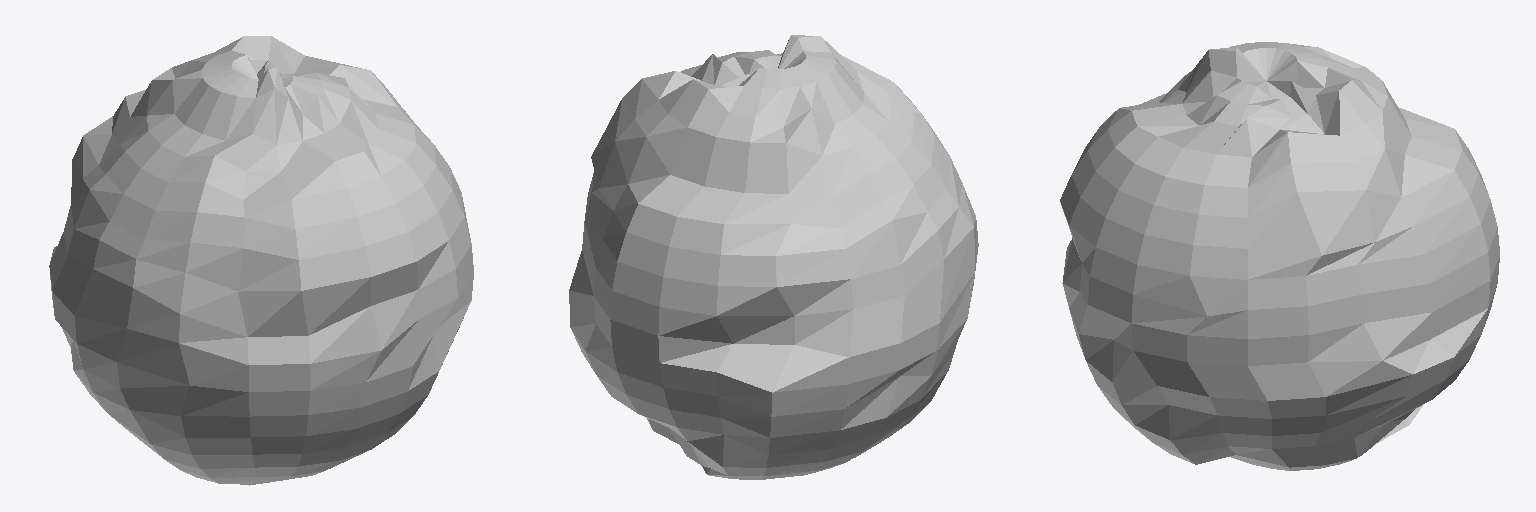
File: Asteroid.obj
The picture shows the model from 3 angles: view 1: azimuth 30°, elevation 25°; view 2: azimuth 150°, elevation 25°; view 3: azimuth 270°, elevation 25°; orthographic projection.
Visible parts, largest first — view 1: pSphere1; view 2: pSphere1; view 3: pSphere1.
Part boxes in pixels (left/top/right/bottom): pSphere1: left=49, top=36, right=473, bottom=485; pSphere1: left=569, top=35, right=978, bottom=479; pSphere1: left=1060, top=42, right=1499, bottom=470.
Size of the model in its own units: 1.93 by 2.14 by 2.09.